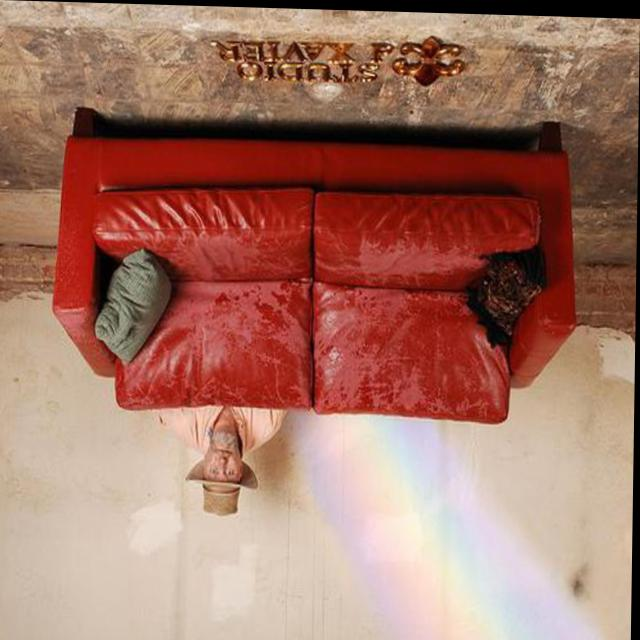Sofa: (55, 108, 585, 425)
